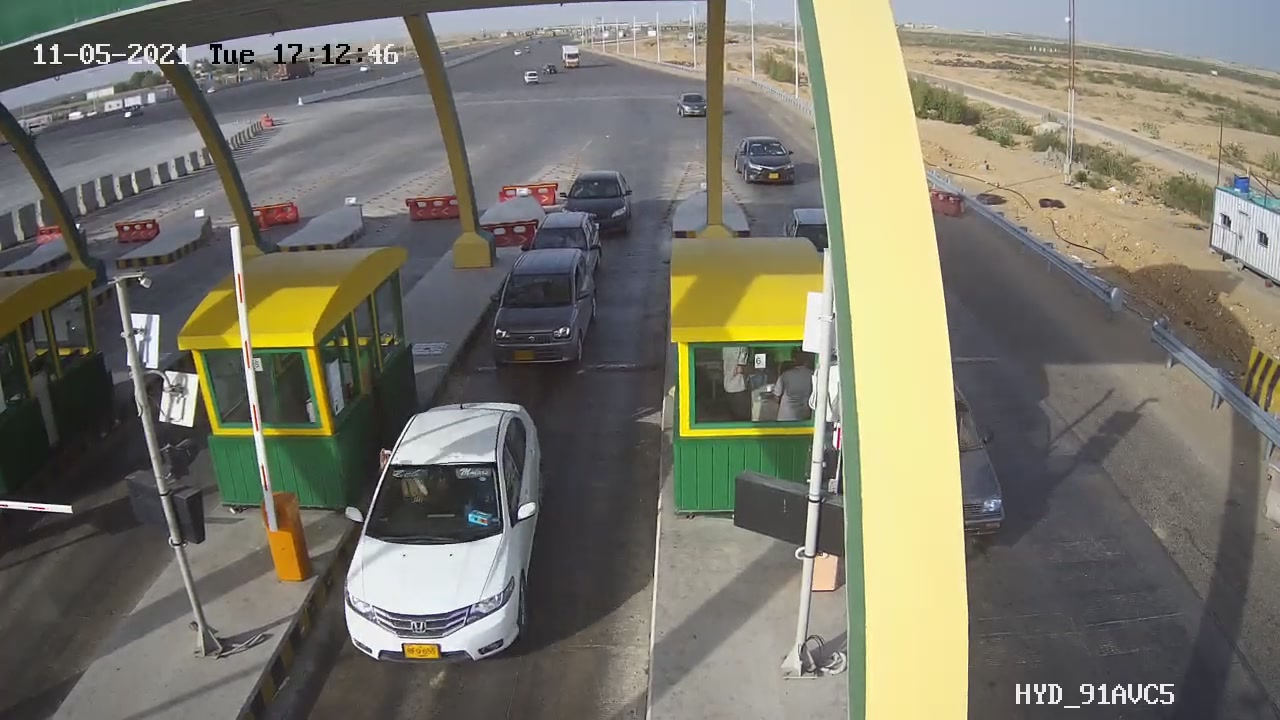F1: (485, 235, 611, 379)
